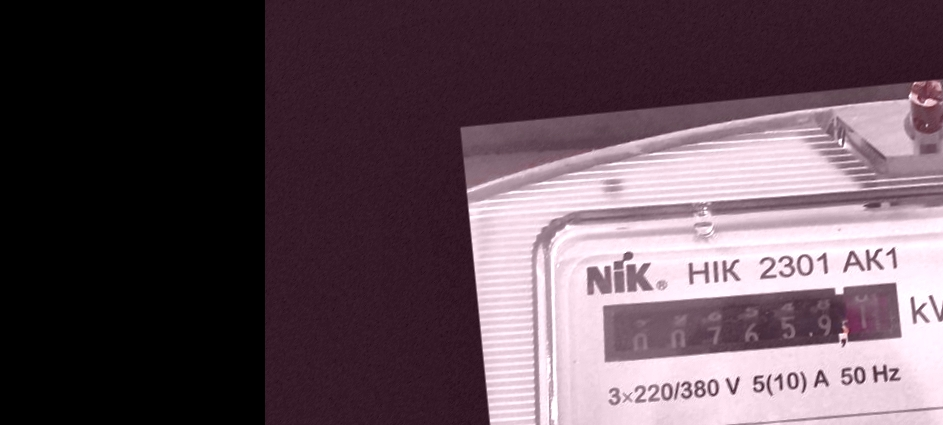0: (668, 326, 690, 353), (630, 329, 651, 356)
1: (856, 301, 873, 334)
5: (777, 313, 801, 342)
6: (741, 320, 762, 345)
7: (704, 323, 727, 350)
9: (815, 311, 835, 340)
screen: (590, 264, 915, 385)
